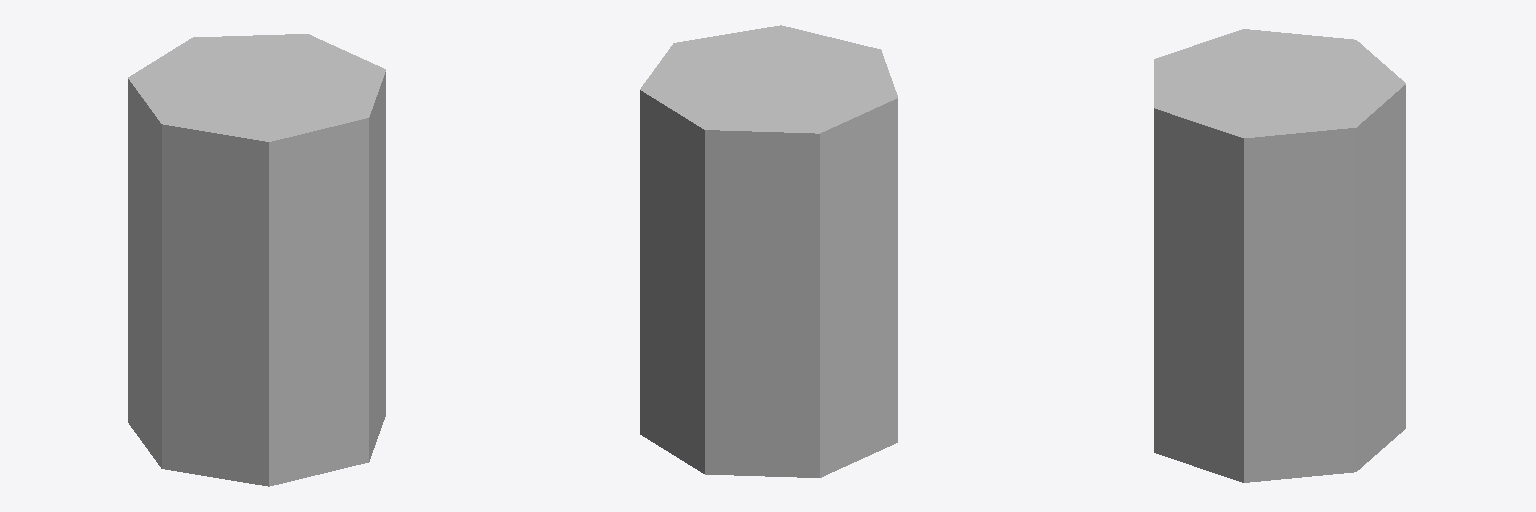
Rendered from Log.obj.
3 views of the same model, side by side, from view 1: azimuth 30°, elevation 25°; view 2: azimuth 150°, elevation 25°; view 3: azimuth 270°, elevation 25° (orthographic).
Parts seen in each view (by area): view 1: Cylinder; view 2: Cylinder; view 3: Cylinder.
Boxes of the visible parts, <box> form: Cylinder: <box>128,34,385,486</box>; Cylinder: <box>640,25,897,477</box>; Cylinder: <box>1154,29,1405,482</box>.
Bounding box in the file's own units: 1.36 × 2 × 1.33.